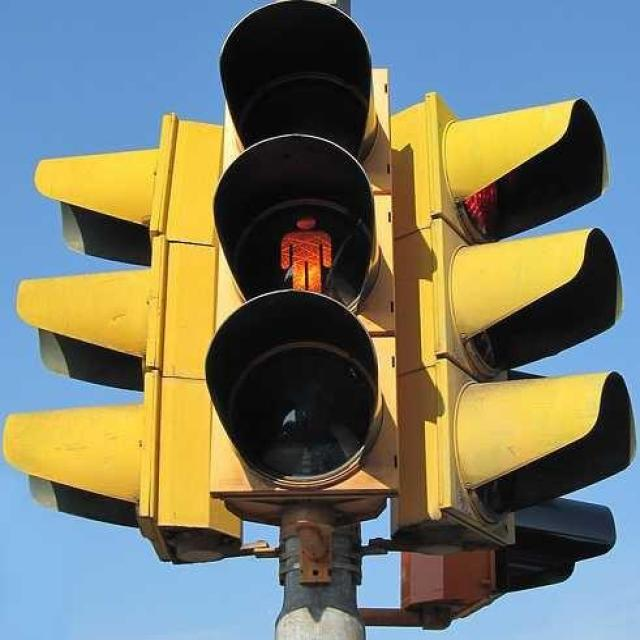Traffic Light -Yellow-: (195, 4, 399, 517)
